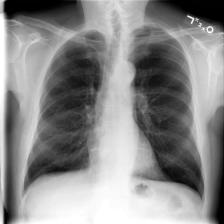normal: (21, 29, 204, 198)
